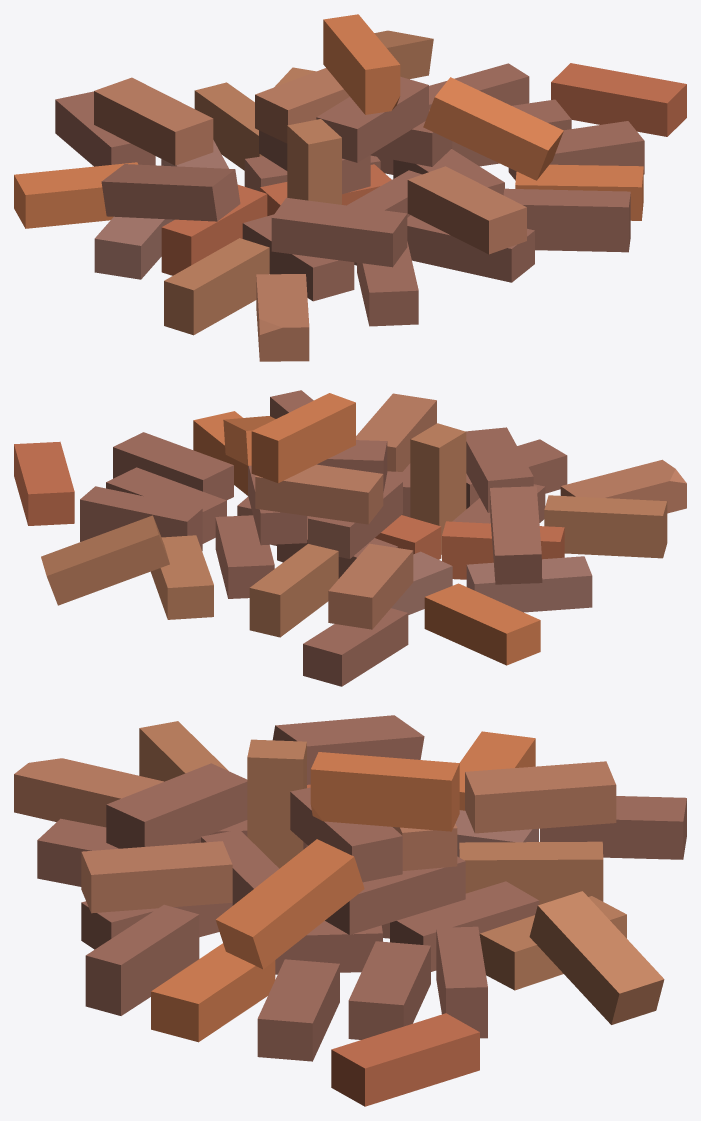
Rendered from Brick_Pile_m_06.fbx.
3 renders of one model, top to bottom at view 1: azimuth 30°, elevation 25°; view 2: azimuth 150°, elevation 25°; view 3: azimuth 270°, elevation 25°, orthographic. The views are drawn at different scales.
Visible parts, largest first — view 1: Brick_Pile_m_06; view 2: Brick_Pile_m_06; view 3: Brick_Pile_m_06.
Boxes of the visible parts, x1,y1,x2,y2 form: Brick_Pile_m_06: (14, 14, 686, 361); Brick_Pile_m_06: (14, 390, 686, 686); Brick_Pile_m_06: (14, 715, 686, 1106).
Bounding box in the file's own units: 1.42 × 0.3269 × 1.2.
